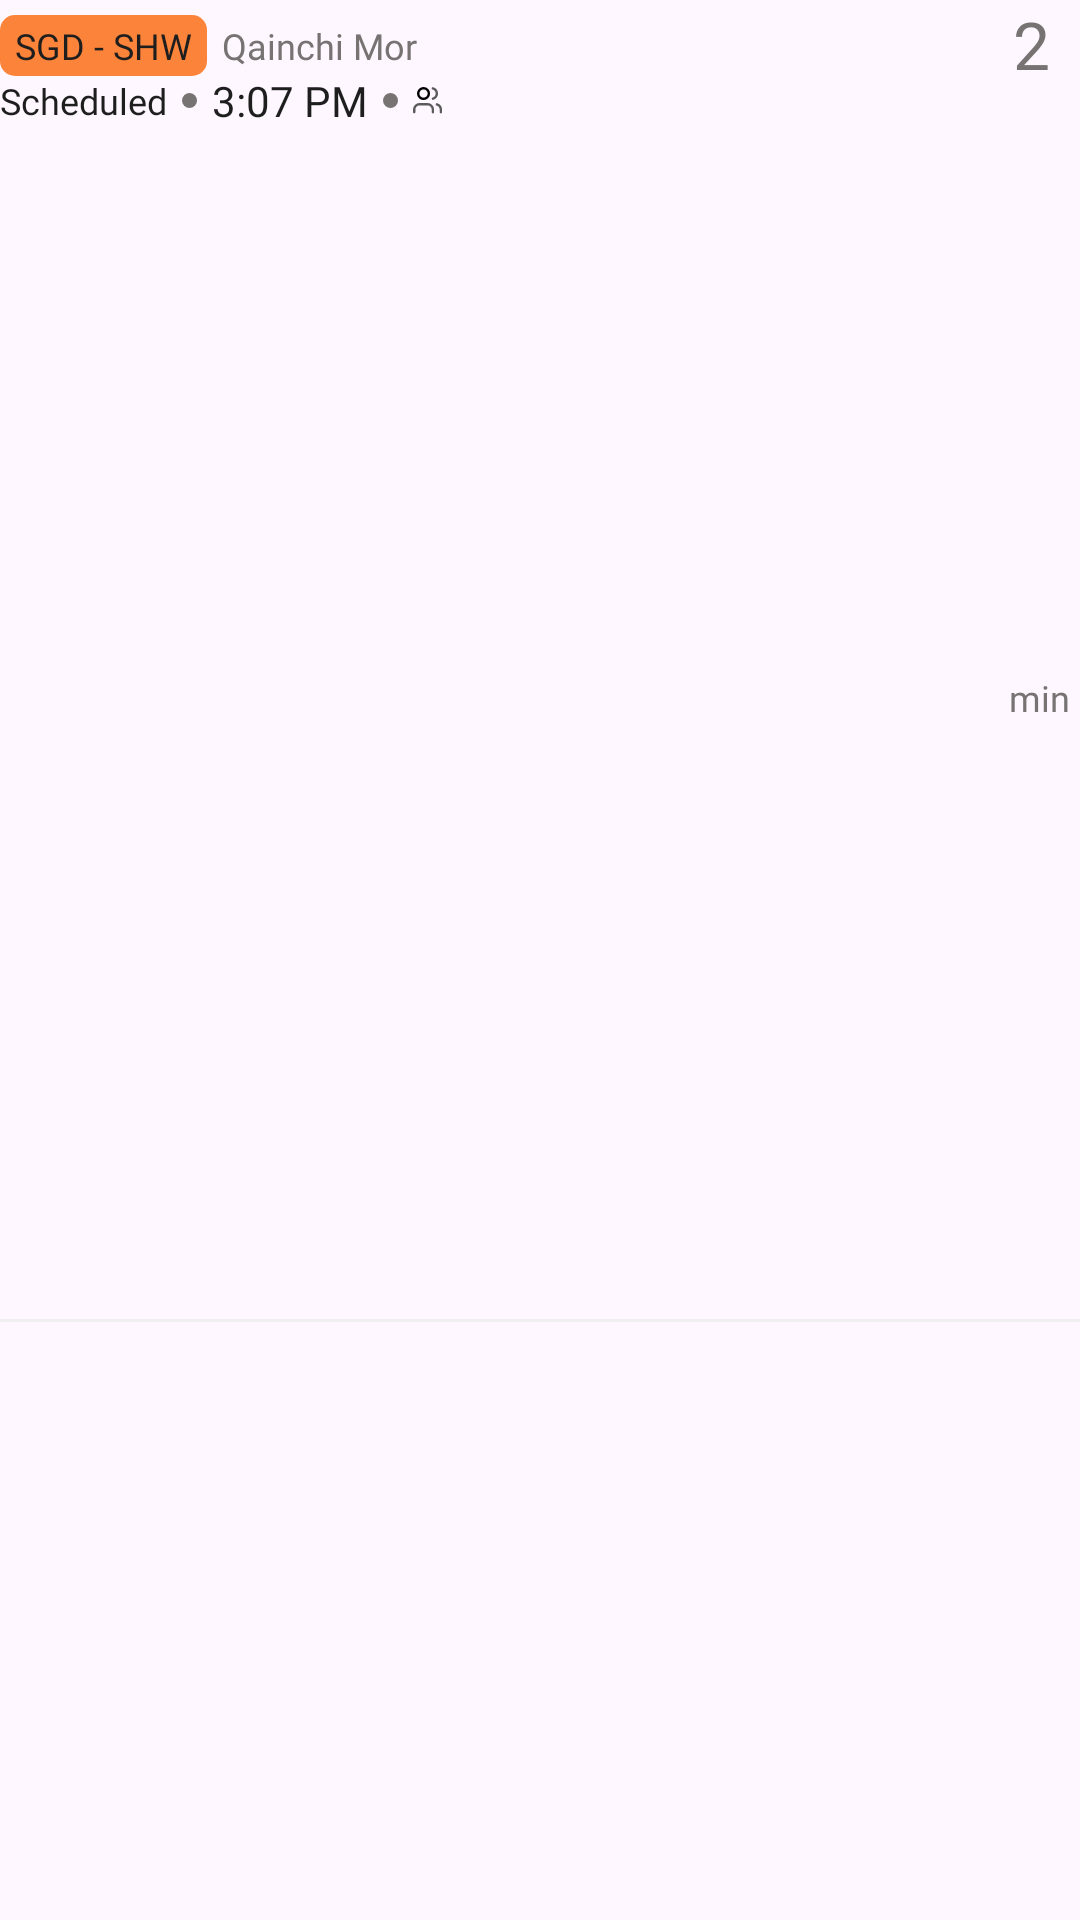

Icon click points for this 1080w x 1920h phone screenshot, format point (x, y):
passengers: point (427, 100)
